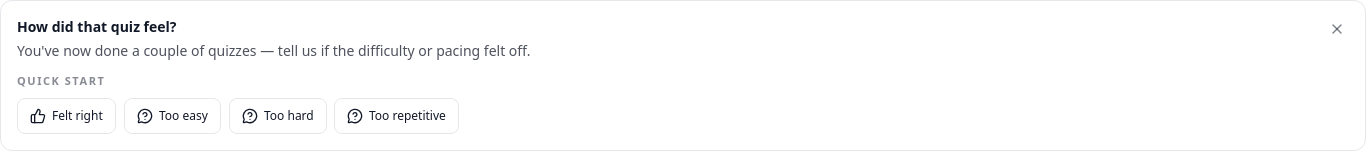
Test case: QuizFeedbackPanel › dismisses Felt right without submitting feedback
Click the button "Felt right": (66, 116) [17, 98, 116, 134]
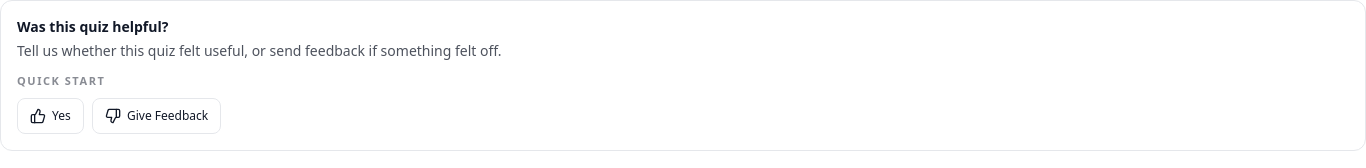
Result: the text "How did that quiz feel?" is gone
